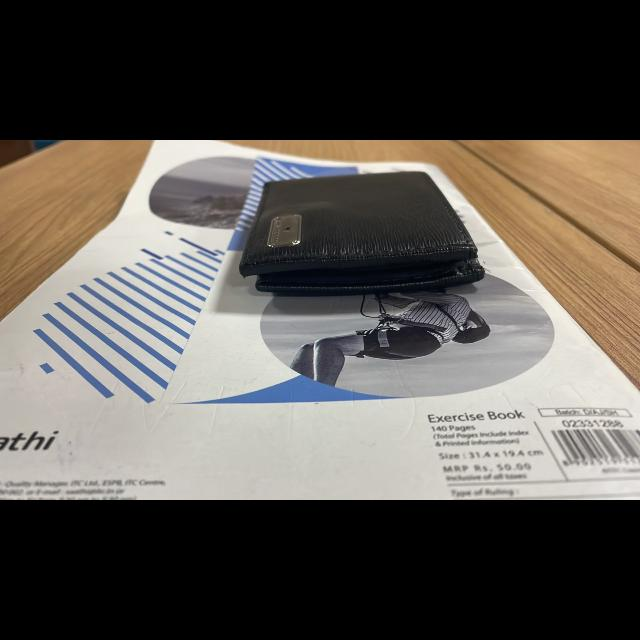wallet: (232, 158, 510, 314)
